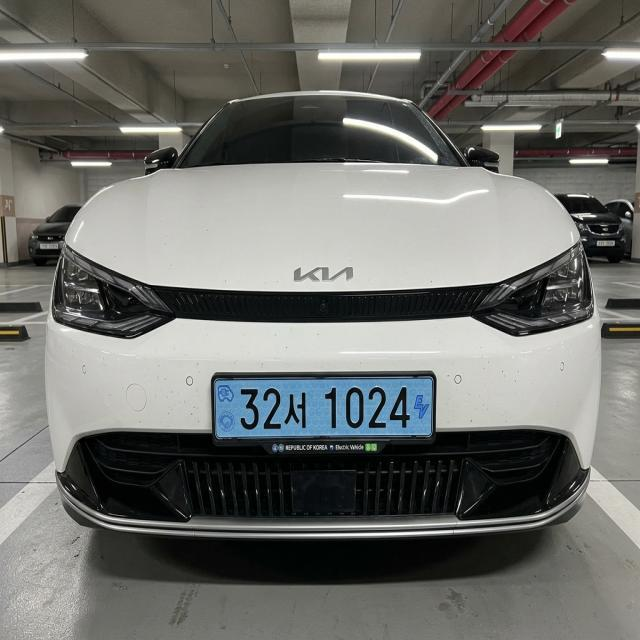car: (198, 362, 458, 473)
carev: (407, 374, 435, 438), (214, 376, 239, 445)
